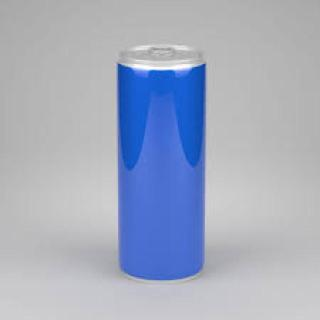Anorganik: (111, 41, 220, 285)
